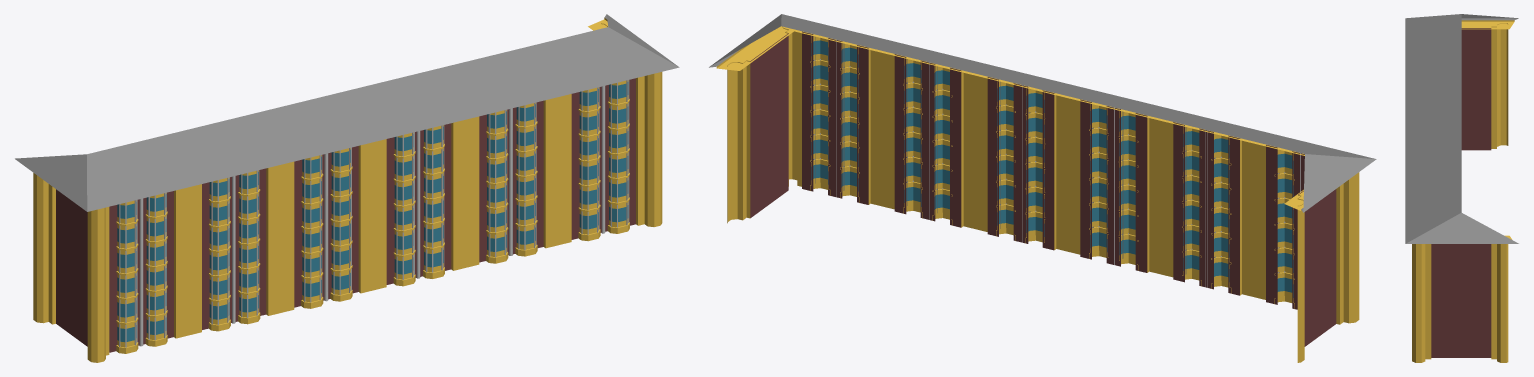
File: SM_background_house_3.fbx
3 renders of one model, left to right at view 1: azimuth 30°, elevation 25°; view 2: azimuth 150°, elevation 25°; view 3: azimuth 270°, elevation 25°, orthographic. The views are drawn at different scales.
Parts seen in each view (by area): view 1: SM_background_house_3; view 2: SM_background_house_3; view 3: SM_background_house_3.
Part boxes in pixels (<box>): SM_background_house_3: <box>15,14,679,362</box>; SM_background_house_3: <box>709,14,1376,362</box>; SM_background_house_3: <box>1405,14,1518,362</box>.
Bounding box in the file's own units: 9786 × 2848 × 2090.
